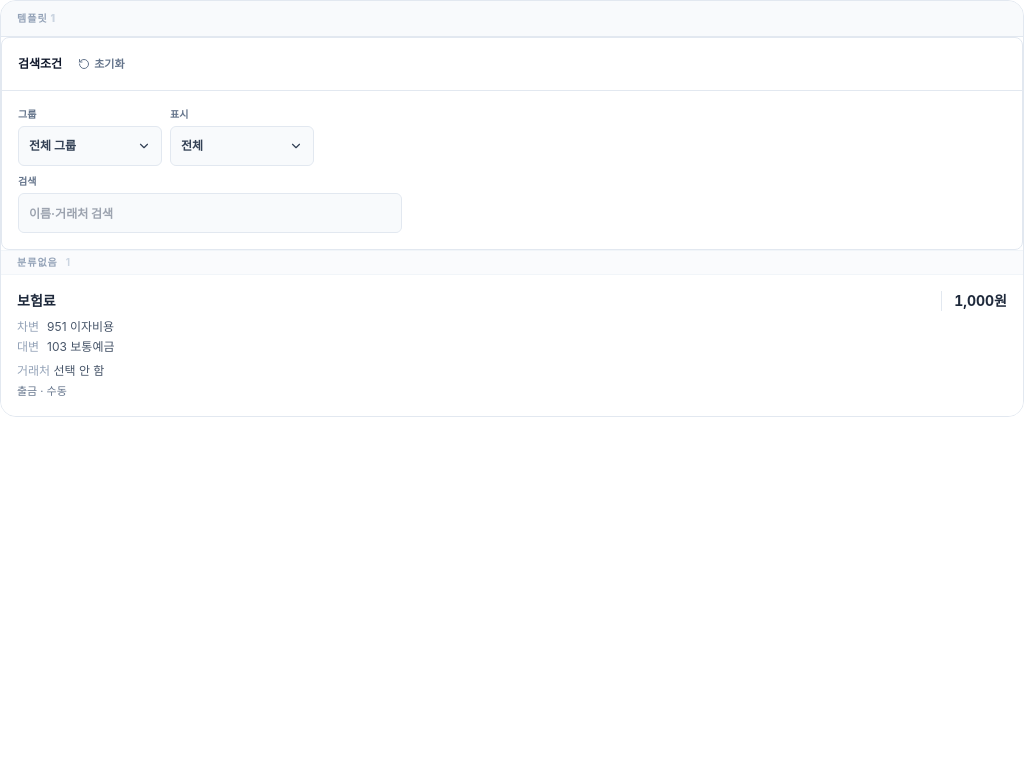
템플릿 상세보기 › 편집과 복제를 열면 상세는 닫히고 취소하면 상세로 돌아온다
Click the button with aria-label "보험료 상세보기": (36, 300) 1,275 -> 1023,416
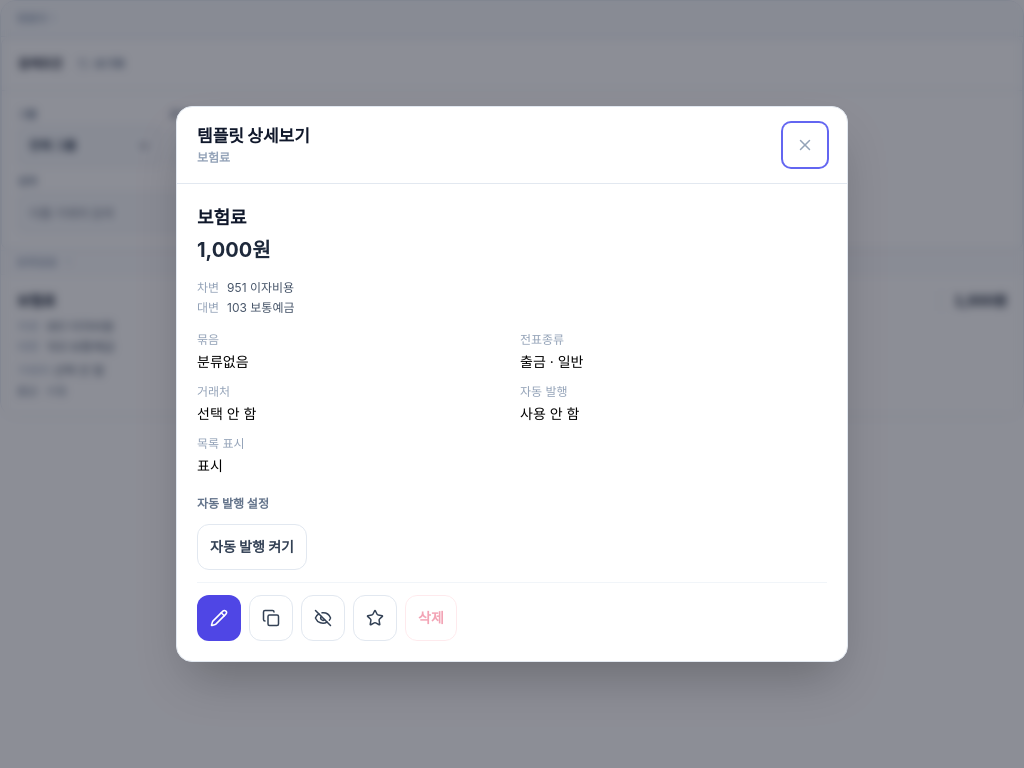
Click the button named "수정": (219, 618) 197,595 -> 241,641
(page scrolled)
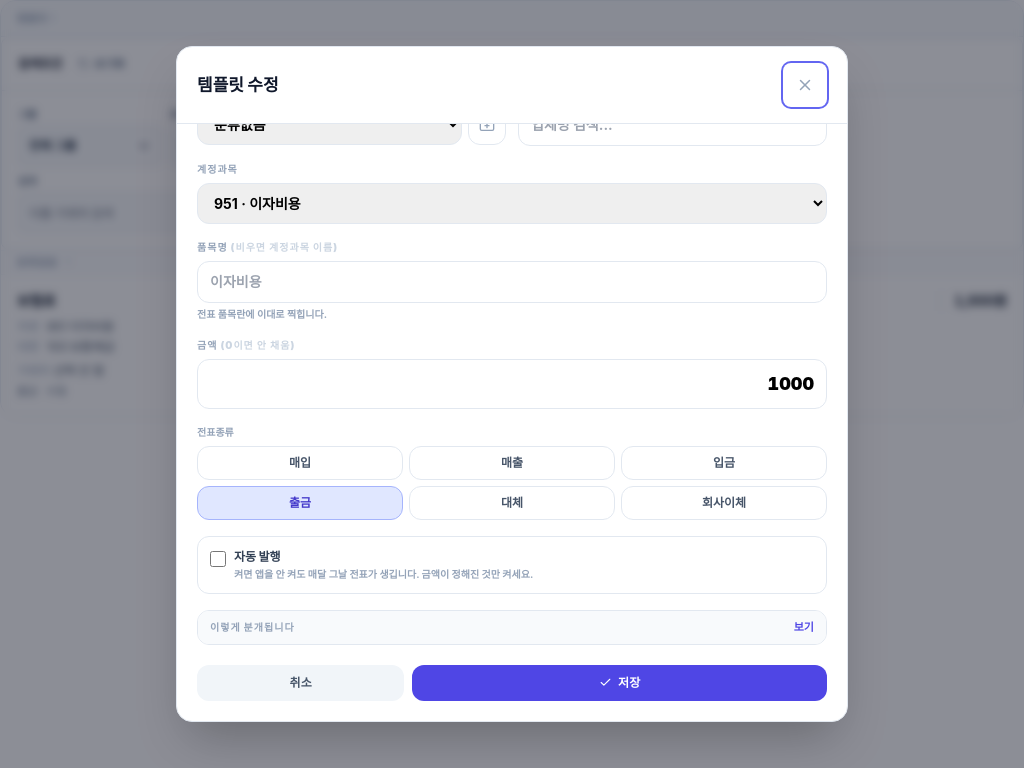
expect the heading "템플릿 상세보기" is gone: met
Click the button "취소": (301, 683) 197,665 -> 404,701
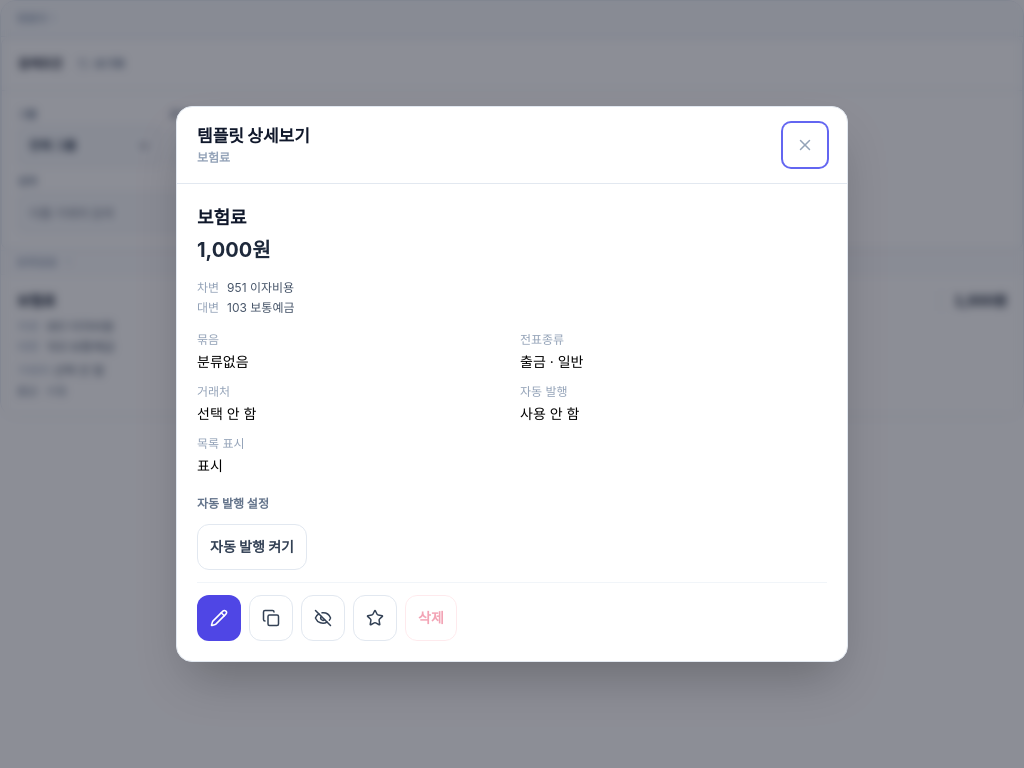
expect the heading "템플릿 상세보기" is shown: met, box 197,124 -> 310,148
Click the button named "복제": (271, 618) 249,595 -> 293,641
(page scrolled)
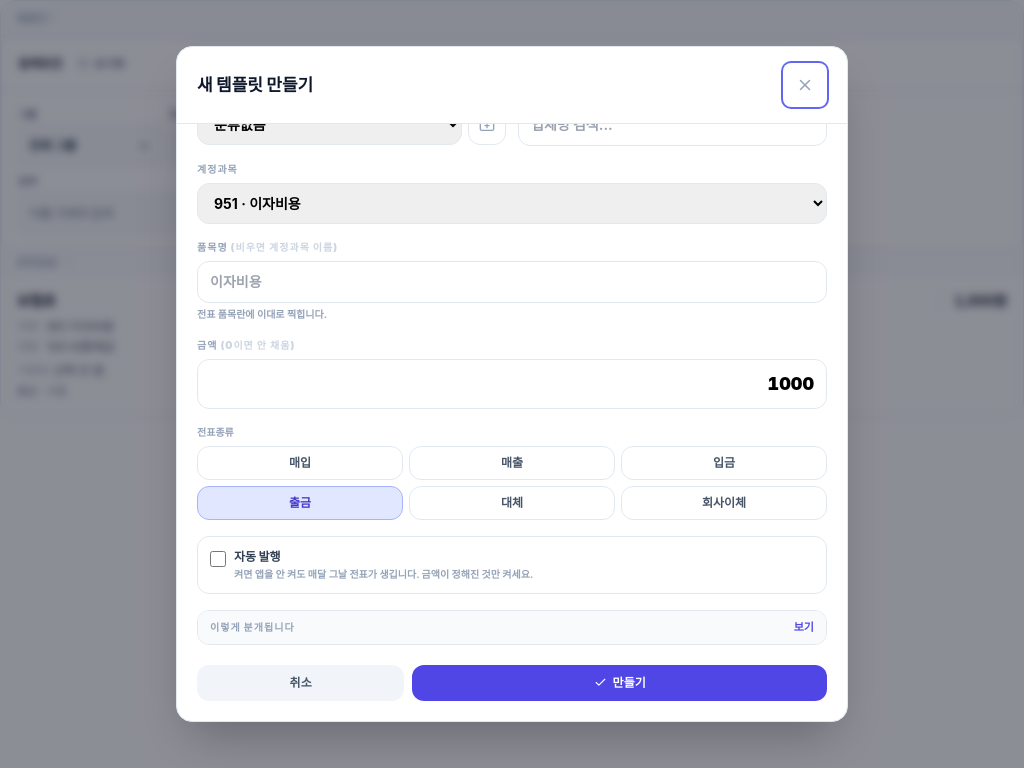
expect the heading "새 템플릿 만들기" is shown: met, box 197,73 -> 313,97
expect the heading "템플릿 상세보기" is gone: met
Click the button "취소": (301, 683) 197,665 -> 404,701
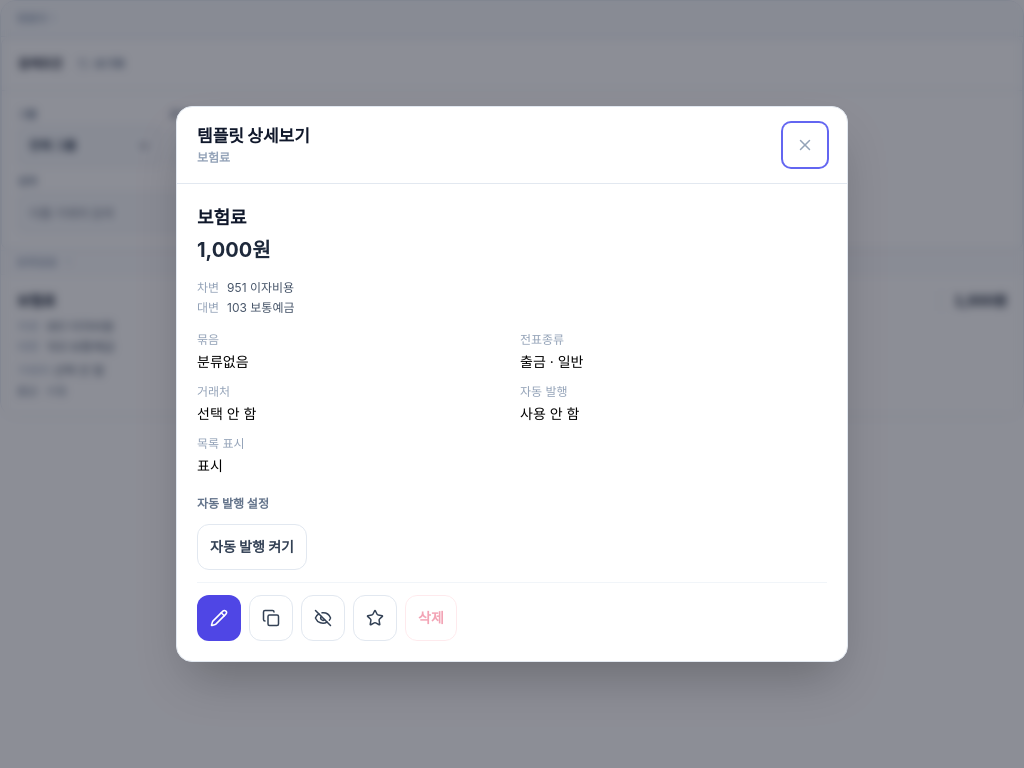
expect the heading "템플릿 상세보기" is shown: met, box 197,124 -> 310,148
